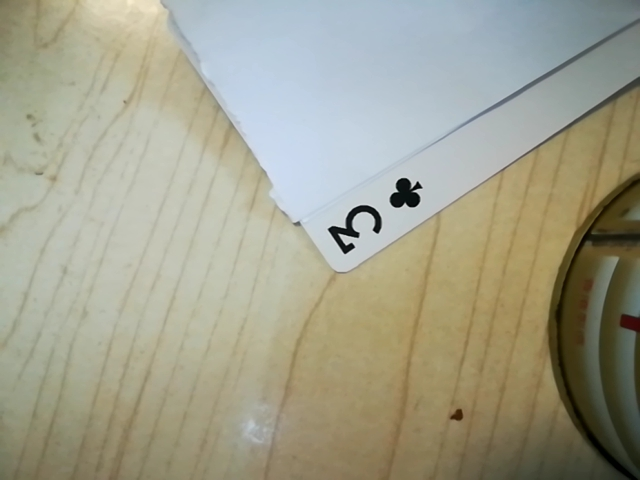mh 3: (320, 171, 431, 265)
